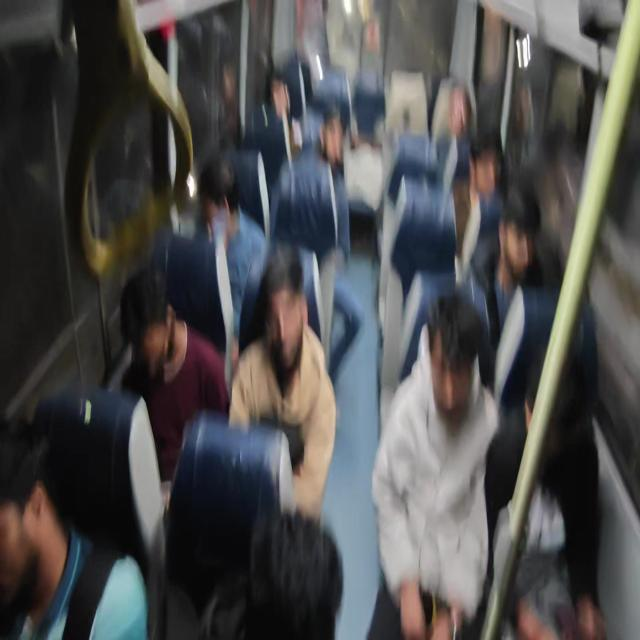person: (483, 184, 605, 638), (366, 292, 499, 638), (0, 417, 149, 638), (228, 244, 337, 526), (118, 266, 230, 485), (165, 156, 267, 356), (245, 508, 343, 638), (244, 66, 302, 200), (460, 128, 508, 288)
